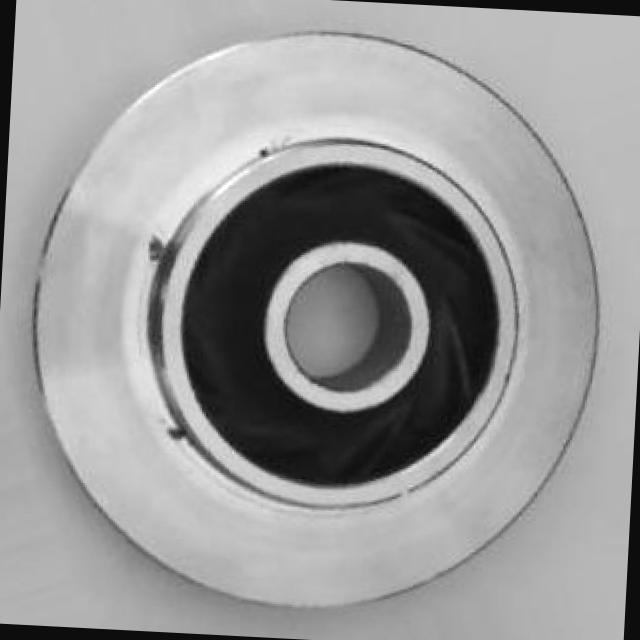Defect: (138, 222, 175, 272)
